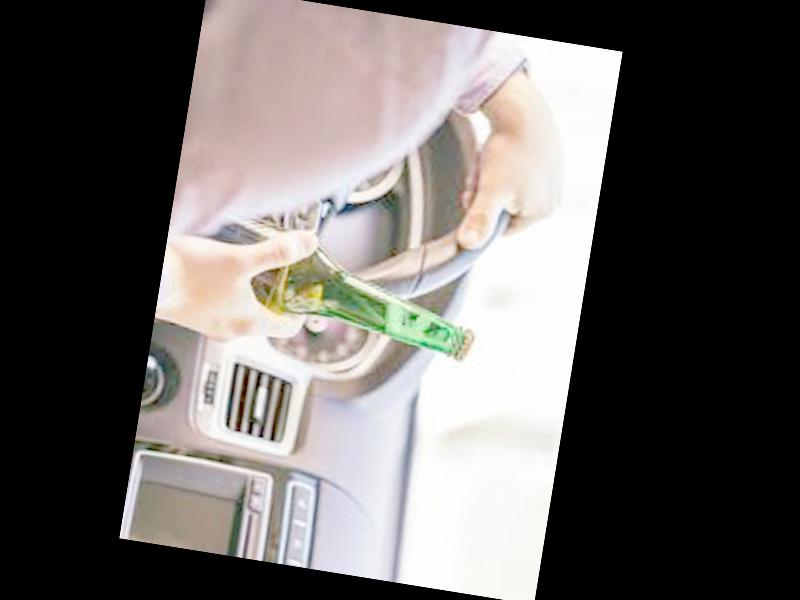Beer: (186, 211, 489, 364)
